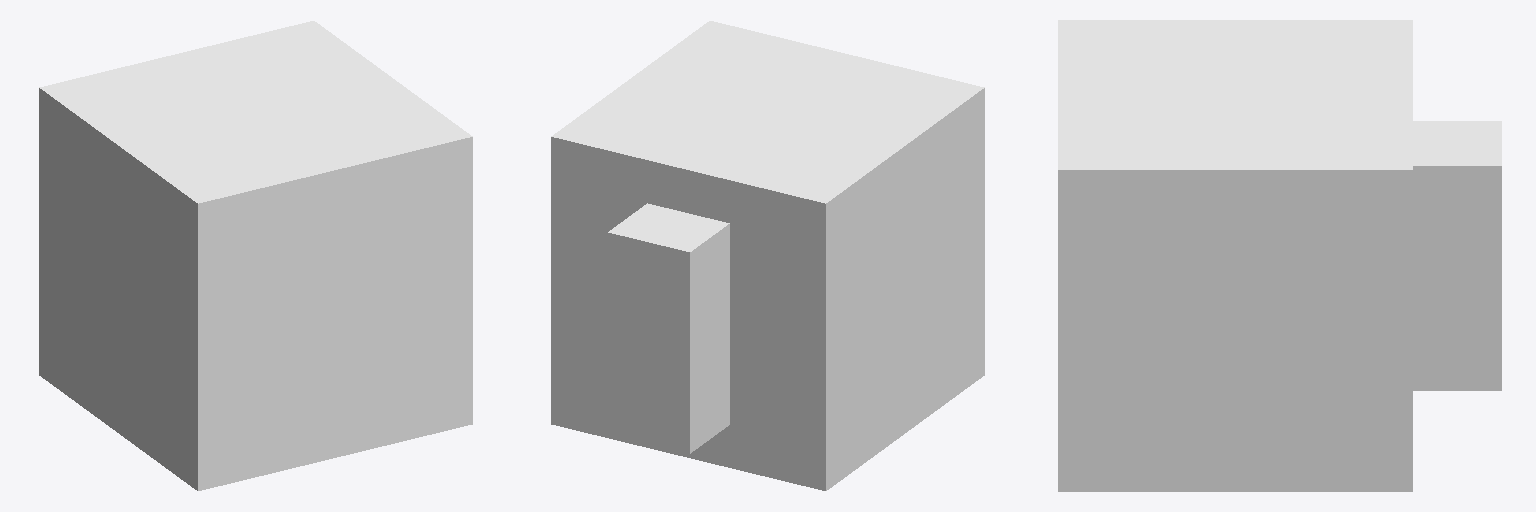
URDF robot description (Line_cube_cap_preprocessed):
<?xml version="1.0" ?>
<robot name="Line_cube_cap_preprocessed">
  <link name="baseLink">
    <contact>
    	<friction_anchor/>
    	   <lateral_friction value="1.0"/>
    </contact>
    <inertial>
      <origin rpy="0 0 0" xyz="0 0 0"/>
       <!-- mass controls penetration -->
       <mass value=".5"/>
       <inertia ixx="1e-4" ixy="0" ixz="0" iyy="1e-4" iyz="0" izz="1e-4"/>
    </inertial>
    <visual>
      <origin rpy="0 0 0" xyz="0 0 0"/>
      <geometry>
        <mesh filename="Line_cube_cap_preprocessed.obj"/>
      </geometry>
       <material name="white">
        <color rgba="1 1 1 1"/>
      </material>
    </visual>
    <collision>
      <origin rpy="0 0 0" xyz="0 0 0"/>
      <geometry>
        <mesh filename="Line_cube_cap_preprocessed.obj"/>
      </geometry>
    </collision>
  </link>
</robot>

--- Render facts (derived) ---
3 views of the same robot in one strip: view 1: azimuth 30°, elevation 25°; view 2: azimuth 150°, elevation 25°; view 3: azimuth 270°, elevation 25° (orthographic).
Robot: Line_cube_cap_preprocessed — 1 links, 0 joints (none); root link baseLink; default pose: all joints at 0.
Visible links, largest first — view 1: baseLink; view 2: baseLink; view 3: baseLink.
Boxes of the visible links, x1,y1,x2,y2 form: baseLink: (39, 21, 472, 490); baseLink: (551, 21, 984, 490); baseLink: (1058, 20, 1501, 491).
Bounding box of the posed robot: 0.08 × 0.1 × 0.08 m (x, y, z).
1 mesh visuals loaded from 1 distinct referenced files (1 OBJ).